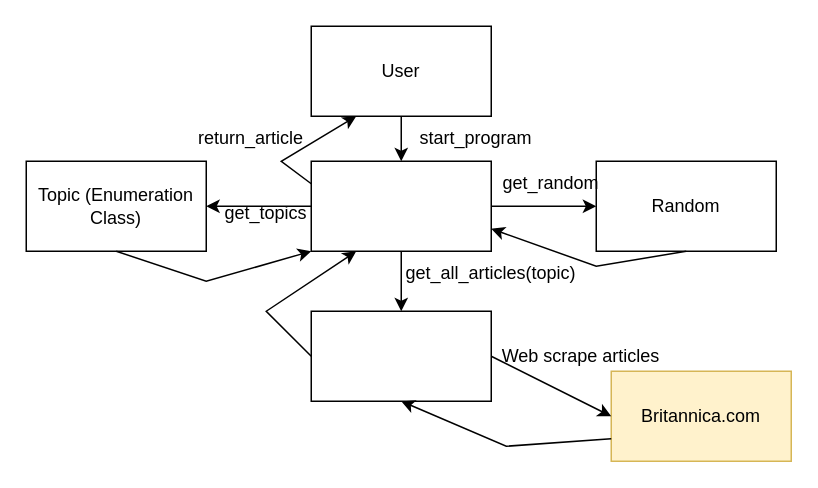
The diagram is 818 pixels wide and 488 high, and some of its shapes have lost their labels. The centre of each missing label's shape, as x and y in pixels:
Article: the point at 400,355
Main Class: the point at 400,205
